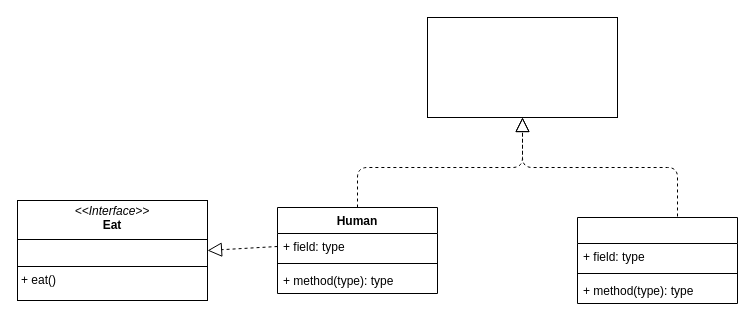
This 755x324 diagram has some shape labels left out. Each missing label, with the box of its shape:
<<Interface>> Worker + work(): (426, 16, 618, 118)
Robot: (576, 216, 738, 304)
